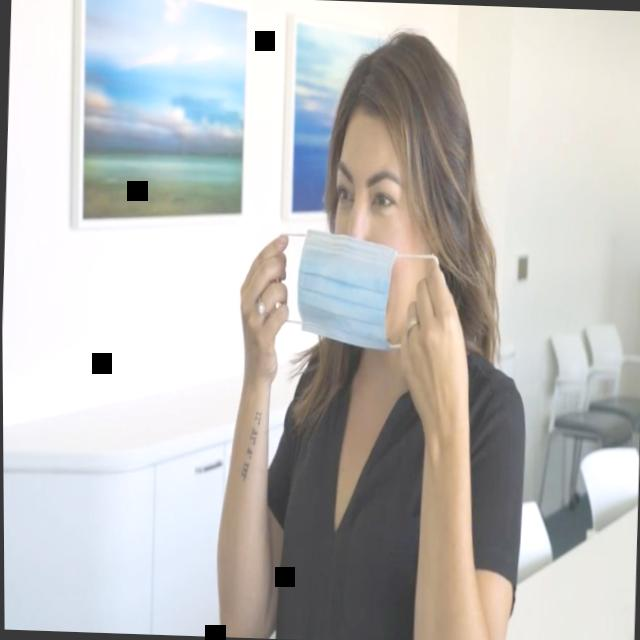NO-Mask: (328, 102, 447, 349)
